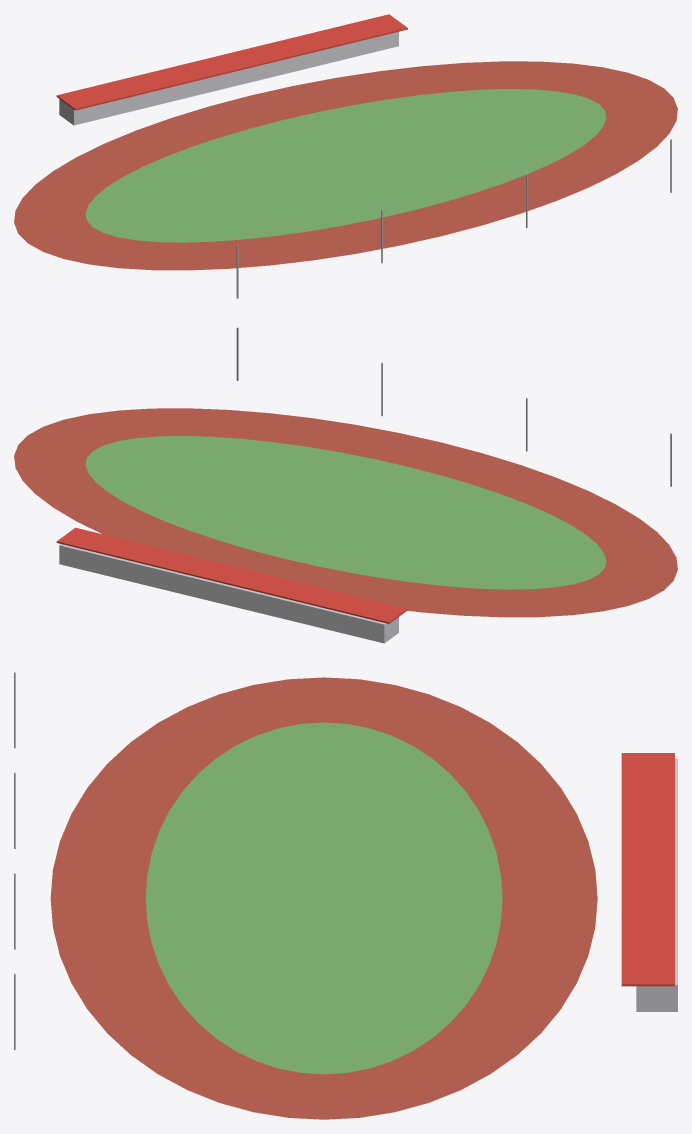
The model's file is EN_MainBowl.glb.
3 views of the same model, one above another, from view 1: azimuth 30°, elevation 25°; view 2: azimuth 150°, elevation 25°; view 3: azimuth 270°, elevation 25° (orthographic). The views are drawn at different scales.
Parts seen in each view (by area): view 1: EN_MainBowl; view 2: EN_MainBowl; view 3: EN_MainBowl.
Part boxes in pixels (x1,y1,x2,y2): EN_MainBowl: [14, 14, 677, 298]; EN_MainBowl: [14, 327, 677, 643]; EN_MainBowl: [14, 672, 677, 1119].
Bounding box in the file's own units: 176 × 14 × 112.
